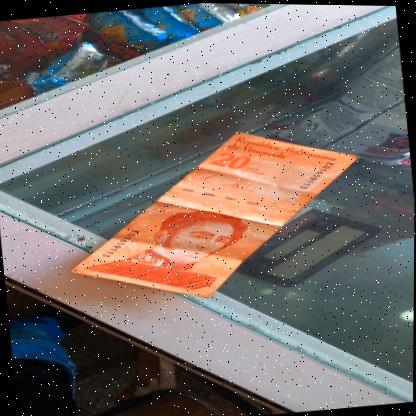twenty-front-vef: (55, 114, 374, 314)
